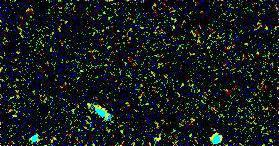star: (147, 123, 177, 146)
